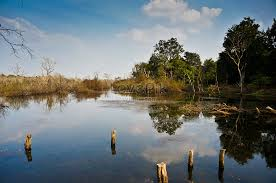lake: (7, 97, 262, 180)
sky: (4, 7, 217, 77)
tree: (138, 38, 214, 92), (223, 14, 263, 91)
